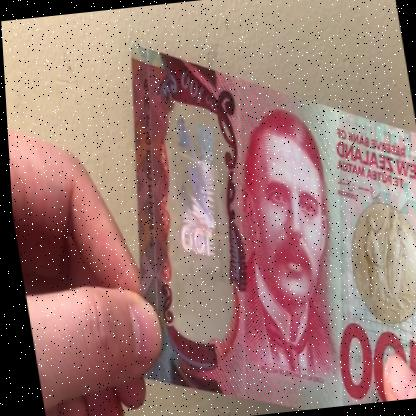100F: (145, 110, 240, 330)
